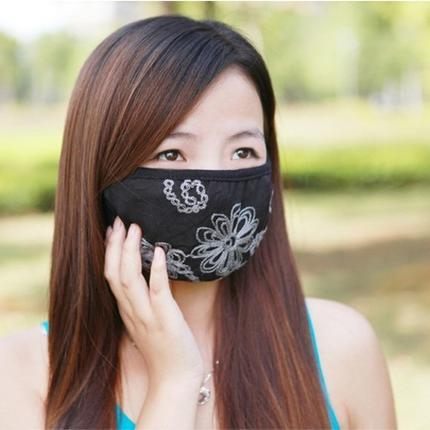OK: (122, 123, 275, 276)
